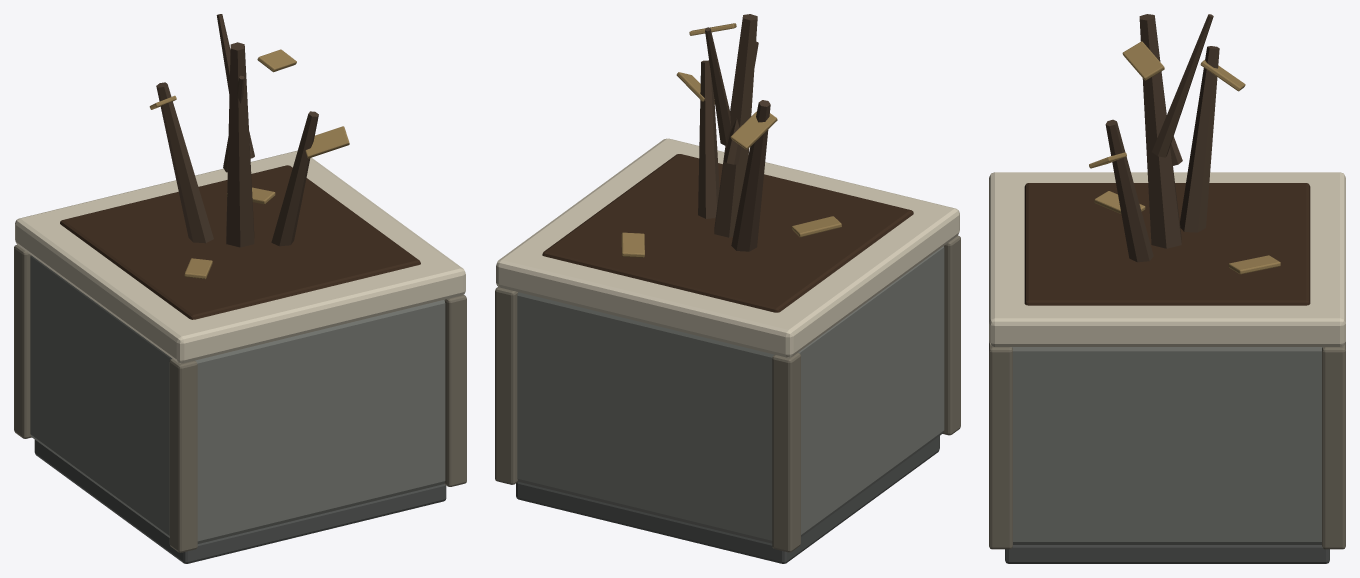
The model's file is lobby_plant_dead.glb.
3 renders of one model, left to right at view 1: azimuth 30°, elevation 25°; view 2: azimuth 150°, elevation 25°; view 3: azimuth 270°, elevation 25°, orthographic. The views are drawn at different scales.
Visible parts, largest first — view 1: lobby_plant_dead; view 2: lobby_plant_dead; view 3: lobby_plant_dead.
Part boxes in pixels (x1,y1,x2,y2): lobby_plant_dead: (14,14,466,563); lobby_plant_dead: (495,14,960,563); lobby_plant_dead: (989,14,1345,563).
Size of what is drawn, in the model's own units: 0.9 by 1.34 by 0.9.
Materials: 3 (3 with a texture image).
